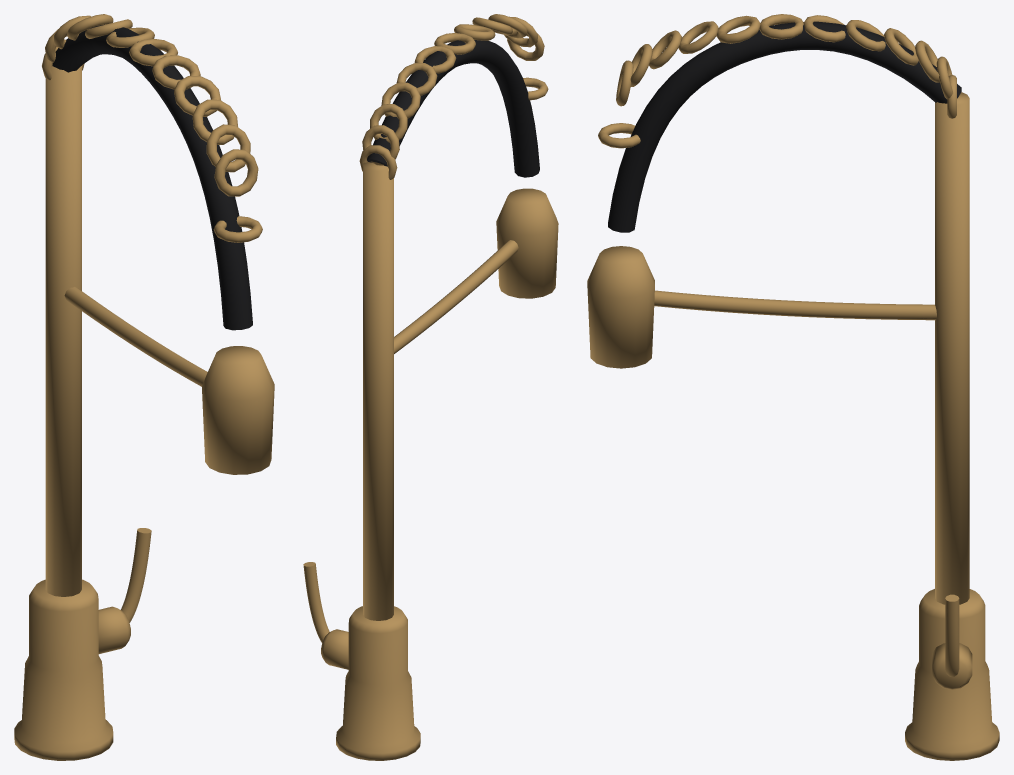
File: a_faucet_spring_2.glb
3 views of the same model, side by side, from view 1: azimuth 30°, elevation 25°; view 2: azimuth 150°, elevation 25°; view 3: azimuth 270°, elevation 25° (orthographic). The views are drawn at different scales.
Visible parts, largest first — view 1: o.001, o, o.002, o.016, o.017, o.019, o.018, o.014, o.013, o.012, o.011, o.010 (+5 smaller); view 2: o.001, o, o.002, o.016, o.017, o.019, o.018, o.006, o.005, o.007, o.004, o.009 (+5 smaller); view 3: o.001, o.002, o, o.016, o.017, o.018, o.019, o.010, o.009, o.011, o.015, o.012 (+2 smaller).
Boxes of the visible parts, bbox=[...] form: o.001: bbox=[45, 66, 81, 596]; o: bbox=[14, 579, 113, 760]; o.002: bbox=[52, 24, 252, 330]; o.016: bbox=[202, 346, 274, 474]; o.017: bbox=[64, 287, 207, 386]; o.019: bbox=[121, 528, 151, 622]; o.018: bbox=[98, 606, 130, 653]; o.014: bbox=[214, 149, 258, 196]; o.013: bbox=[206, 124, 250, 172]; o.012: bbox=[192, 99, 237, 144]; o.011: bbox=[174, 76, 221, 116]; o.010: bbox=[152, 55, 200, 89]; o.001: bbox=[363, 162, 393, 620]; o: bbox=[336, 606, 420, 760]; o.002: bbox=[367, 40, 539, 177]; o.016: bbox=[496, 188, 558, 298]; o.017: bbox=[394, 240, 518, 353]; o.019: bbox=[303, 562, 329, 642]; o.018: bbox=[321, 629, 348, 669]; o.006: bbox=[381, 82, 420, 118]; o.005: bbox=[370, 104, 407, 142]; o.007: bbox=[396, 63, 437, 95]; o.004: bbox=[362, 125, 399, 165]; o.009: bbox=[434, 33, 475, 54]; o.001: bbox=[935, 92, 969, 604]; o.002: bbox=[608, 21, 961, 232]; o: bbox=[905, 589, 999, 760]; o.016: bbox=[587, 246, 654, 368]; o.017: bbox=[654, 290, 936, 320]; o.018: bbox=[932, 643, 972, 689]; o.019: bbox=[945, 594, 959, 676]; o.010: bbox=[716, 15, 760, 43]; o.009: bbox=[759, 14, 803, 39]; o.011: bbox=[678, 21, 718, 53]; o.015: bbox=[598, 123, 640, 148]; o.012: bbox=[649, 30, 681, 69].
Size of the model in its own units: 0.0903 by 0.5045 by 0.2614.
